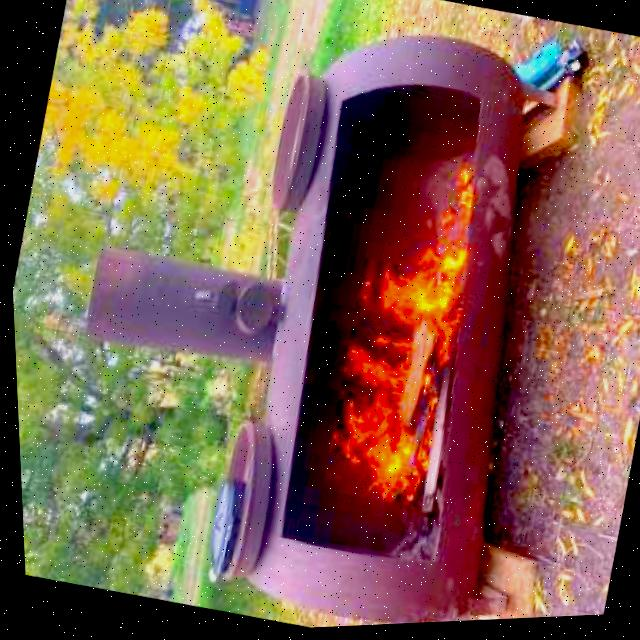Fire: (302, 185, 500, 543)
